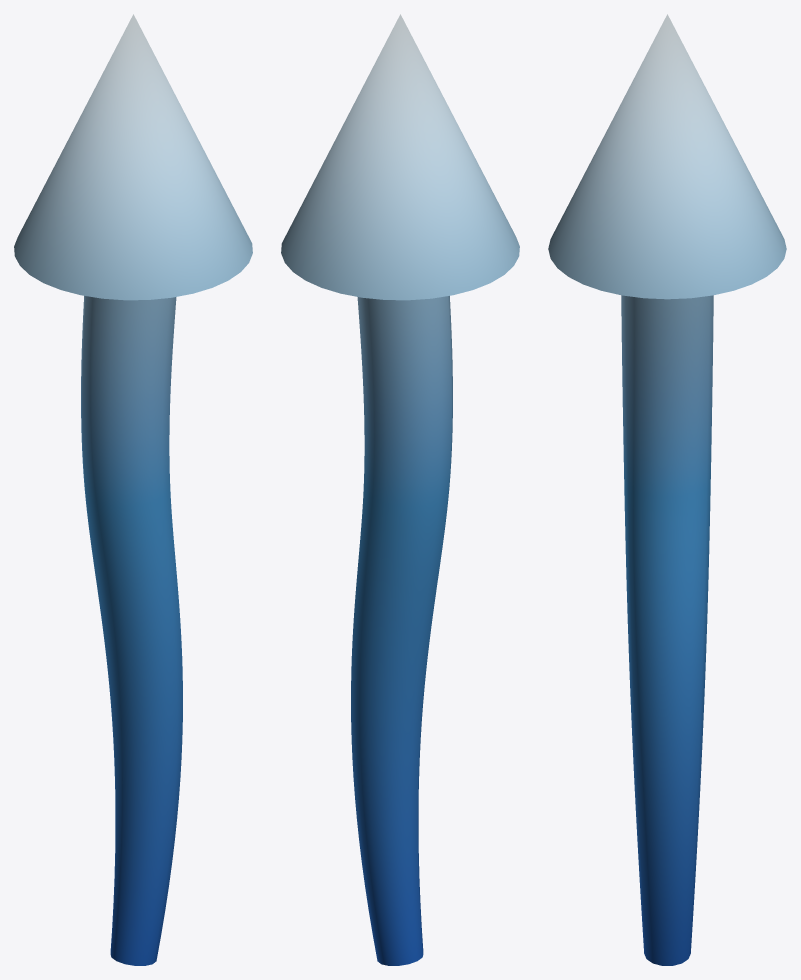
File: arrow-up.glb
3 views of the same model, side by side, from view 1: azimuth 30°, elevation 25°; view 2: azimuth 150°, elevation 25°; view 3: azimuth 270°, elevation 25° (orthographic).
Parts seen in each view (by area): view 1: arrow; view 2: arrow; view 3: arrow.
Boxes of the visible parts, bbox=[...] form: arrow: bbox=[14, 14, 252, 965]; arrow: bbox=[281, 14, 519, 965]; arrow: bbox=[548, 14, 786, 965].
Bounding box in the file's own units: 0.23 × 1 × 0.23.
